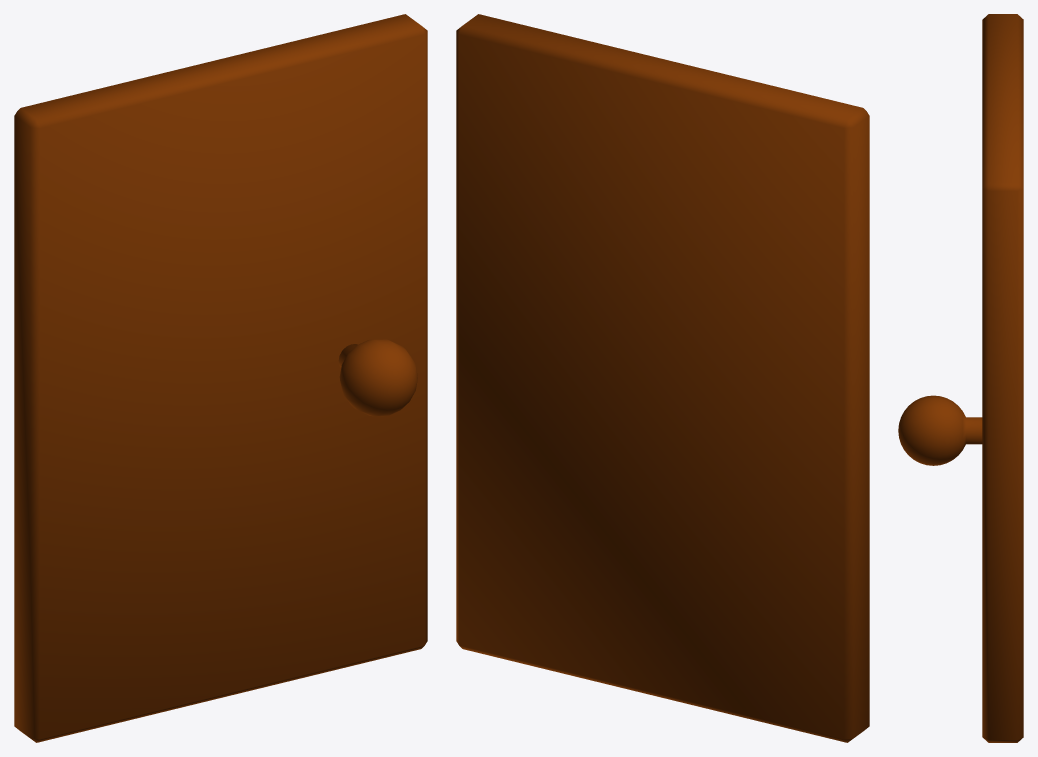
The model's file is door.fbx.
The picture shows the model from 3 angles, left to right: view 1: azimuth 30°, elevation 25°; view 2: azimuth 150°, elevation 25°; view 3: azimuth 270°, elevation 25°; orthographic projection. The views are drawn at different scales.
Visible parts, largest first — view 1: Cube; view 2: Cube; view 3: Cube.
Part boxes in pixels (left/top/right/bottom): Cube: left=14, top=14, right=427, bottom=742; Cube: left=456, top=14, right=869, bottom=742; Cube: left=898, top=14, right=1023, bottom=742.
Bounding box in the file's own units: 200 × 300 × 60.87.
